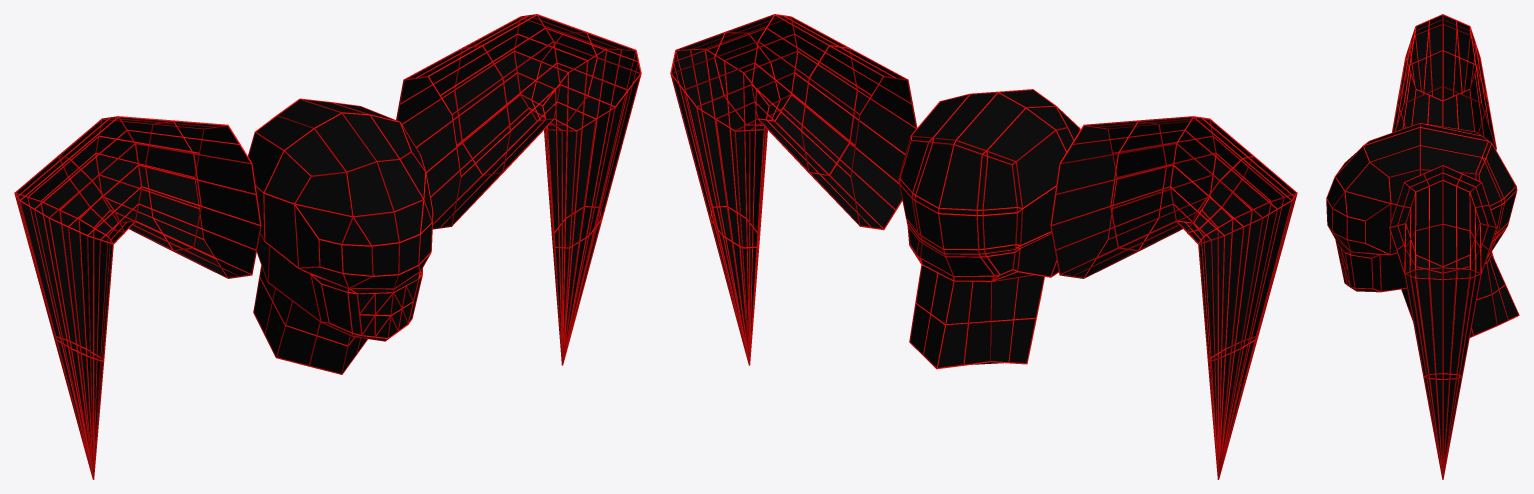
File: jester.gltf
3 renders of one model, left to right at view 1: azimuth 30°, elevation 25°; view 2: azimuth 150°, elevation 25°; view 3: azimuth 270°, elevation 25°, orthographic. The views are drawn at different scales.
Visible parts, largest first — view 1: Cube, Cube.001, Cube.002; view 2: Cube.001, Cube.002, Cube; view 3: Cube, Cube.001, Cube.002.
Boxes of the visible parts, x1,y1,x2,y2 form: Cube: (248,98,433,374); Cube.001: (396,14,641,365); Cube.002: (14,116,261,479); Cube.001: (670,14,917,365); Cube.002: (1050,116,1297,479); Cube: (898,89,1080,369); Cube: (1326,123,1519,337); Cube.001: (1389,165,1496,479); Cube.002: (1392,14,1496,149).
Bounding box in the file's own units: 4.99 × 2.76 × 1.67.
